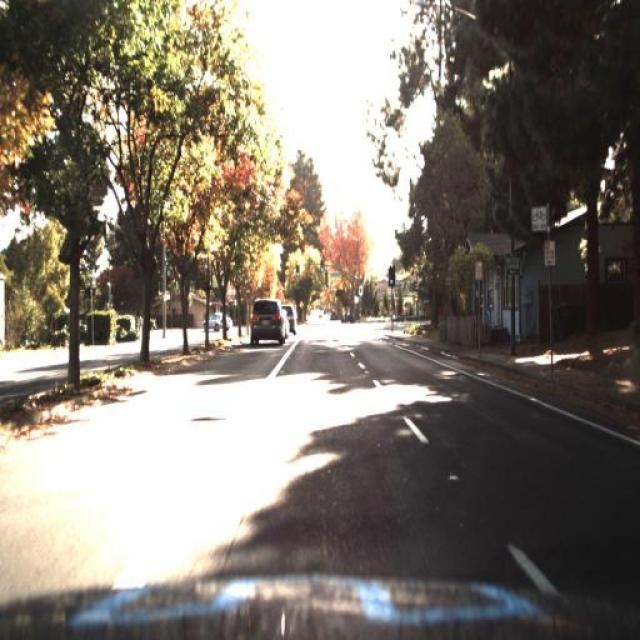car: (249, 297, 286, 344), (198, 310, 234, 334), (195, 308, 233, 328), (284, 302, 300, 339), (284, 304, 297, 340)
trafficLight-Green: (386, 269, 396, 289)
trafficLight-GreenLeft: (387, 268, 397, 292), (318, 258, 327, 284), (293, 261, 301, 284), (320, 256, 324, 276)
trafficLight-Red: (295, 262, 300, 280)
